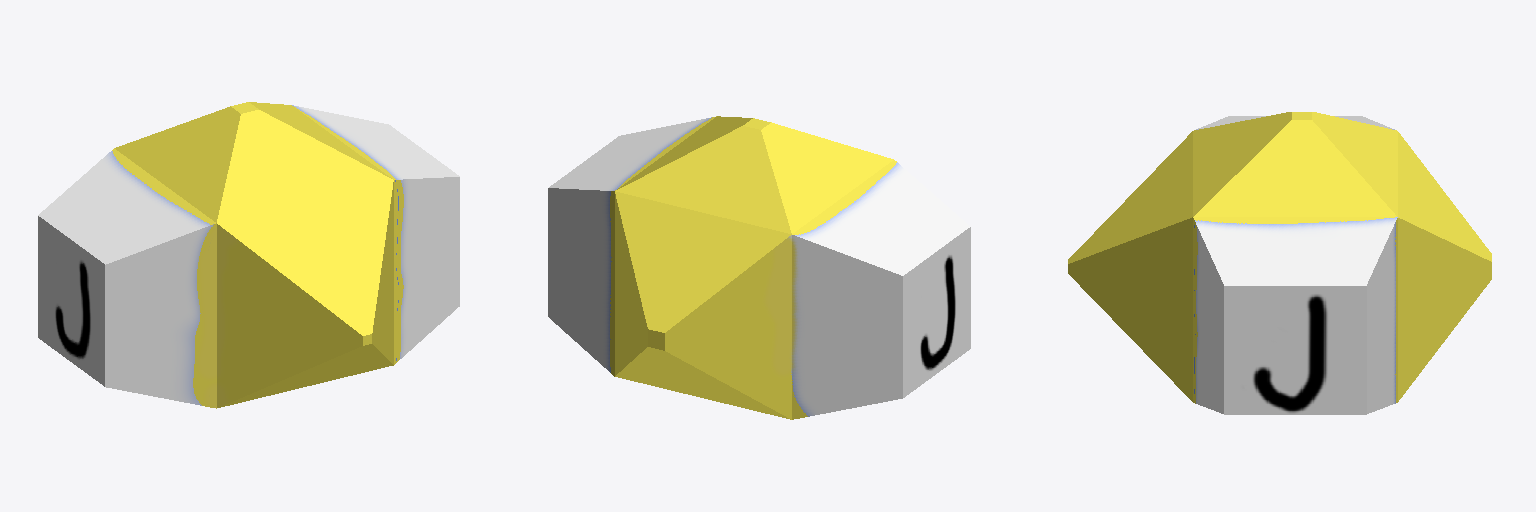
3 renders of one model, left to right at view 1: azimuth 30°, elevation 25°; view 2: azimuth 150°, elevation 25°; view 3: azimuth 270°, elevation 25°, orthographic.
Visible parts, largest first — view 1: Cube; view 2: Cube; view 3: Cube.
Part boxes in pixels (bbox=[...]): Cube: bbox=[38, 102, 459, 408]; Cube: bbox=[548, 116, 970, 419]; Cube: bbox=[1068, 112, 1491, 414].
Size of the model in its own units: 3.99 by 3.02 by 4.14.
Materials: 1 (1 with a texture image).